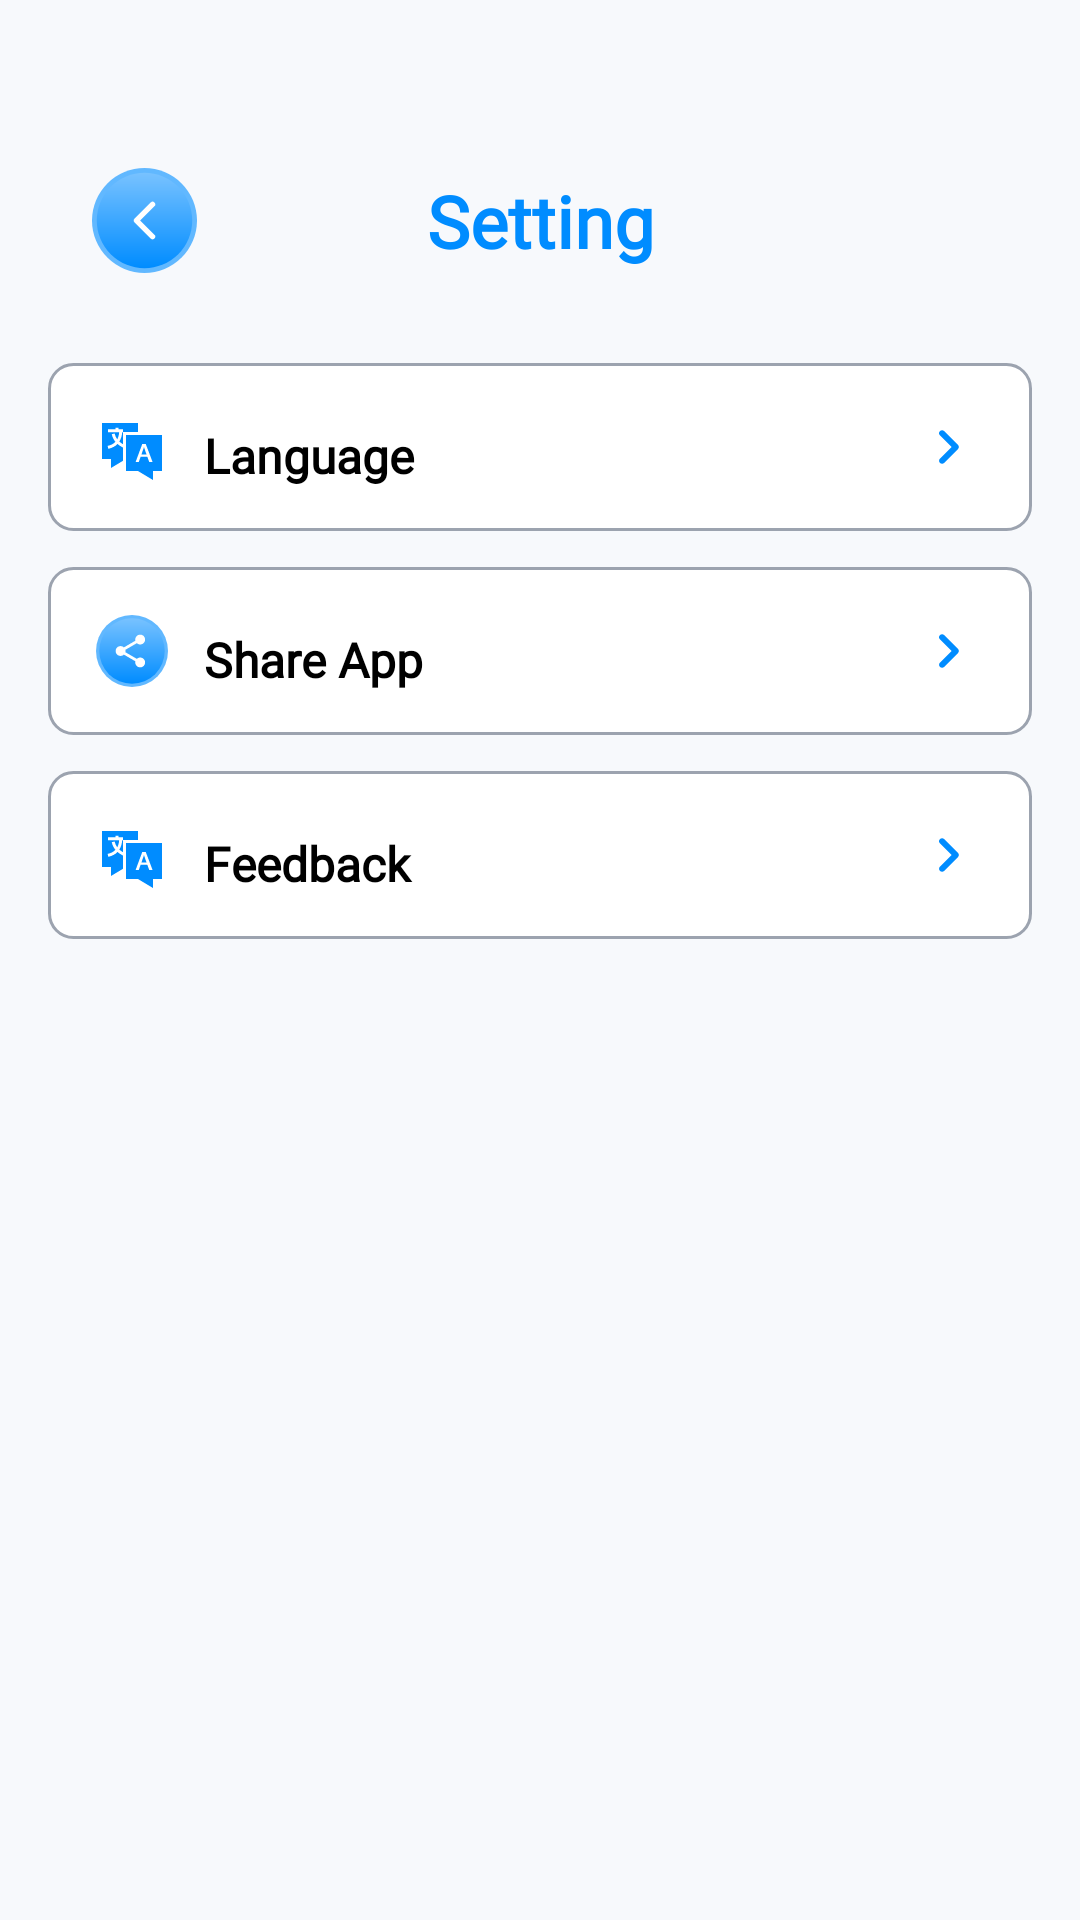

Screen size 1080w x 1920h. Icon name, then its center in pixels as point (x, y):
back: point (144, 220)
